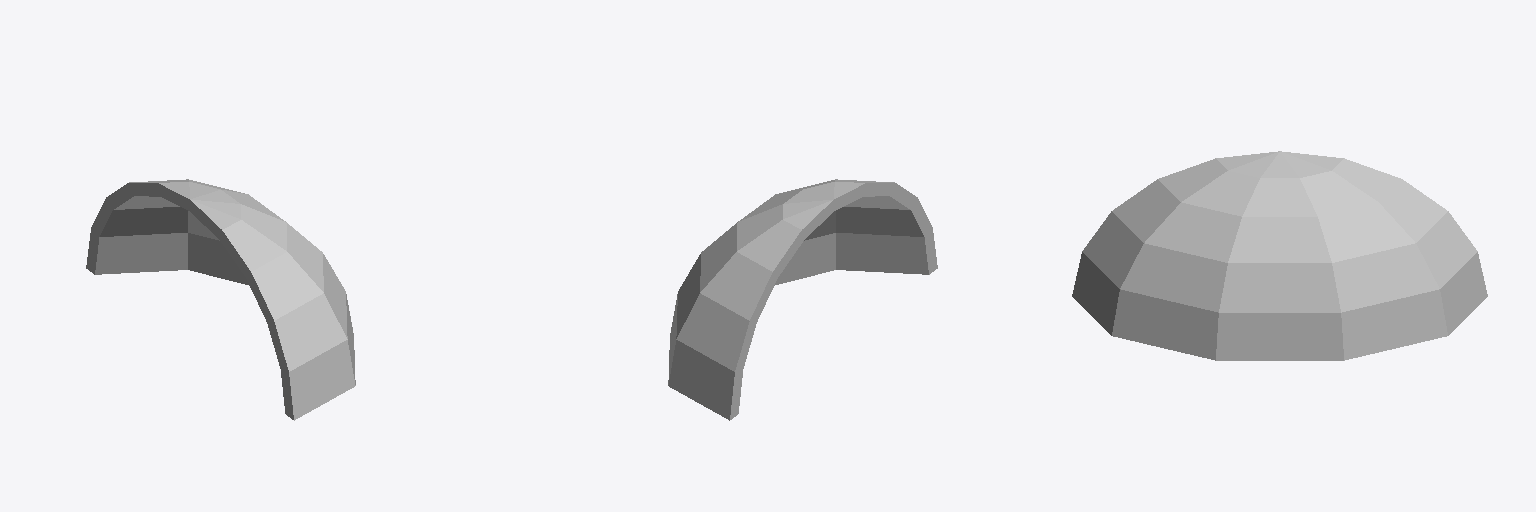
Rendered from rightEyelid.obj.
The picture shows the model from 3 angles: view 1: azimuth 30°, elevation 25°; view 2: azimuth 150°, elevation 25°; view 3: azimuth 270°, elevation 25°; orthographic projection.
Visible parts, largest first — view 1: RightEyelid; view 2: RightEyelid; view 3: RightEyelid.
Boxes of the visible parts, box(x1,y1,x2,y2) form: RightEyelid: box(86, 179, 355, 420); RightEyelid: box(668, 179, 937, 420); RightEyelid: box(1072, 151, 1487, 360).
Size of the model in its own units: 7.79 by 8.19 by 21.3.